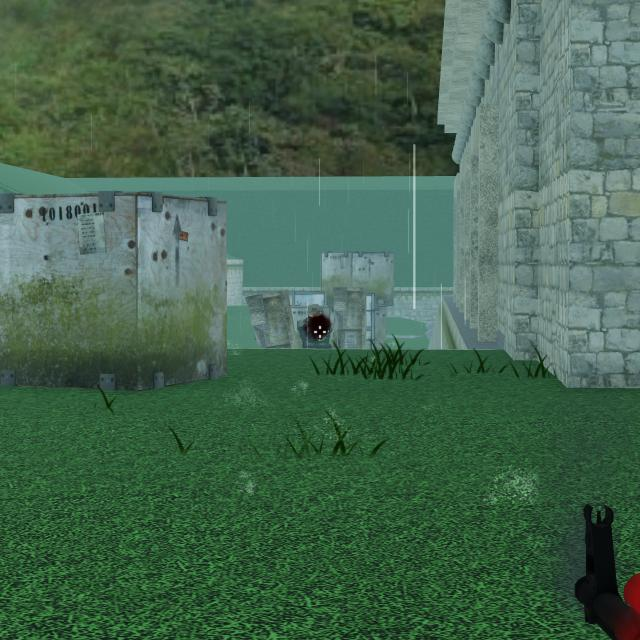Head: (307, 305, 323, 321)
Player: (298, 305, 330, 348)
